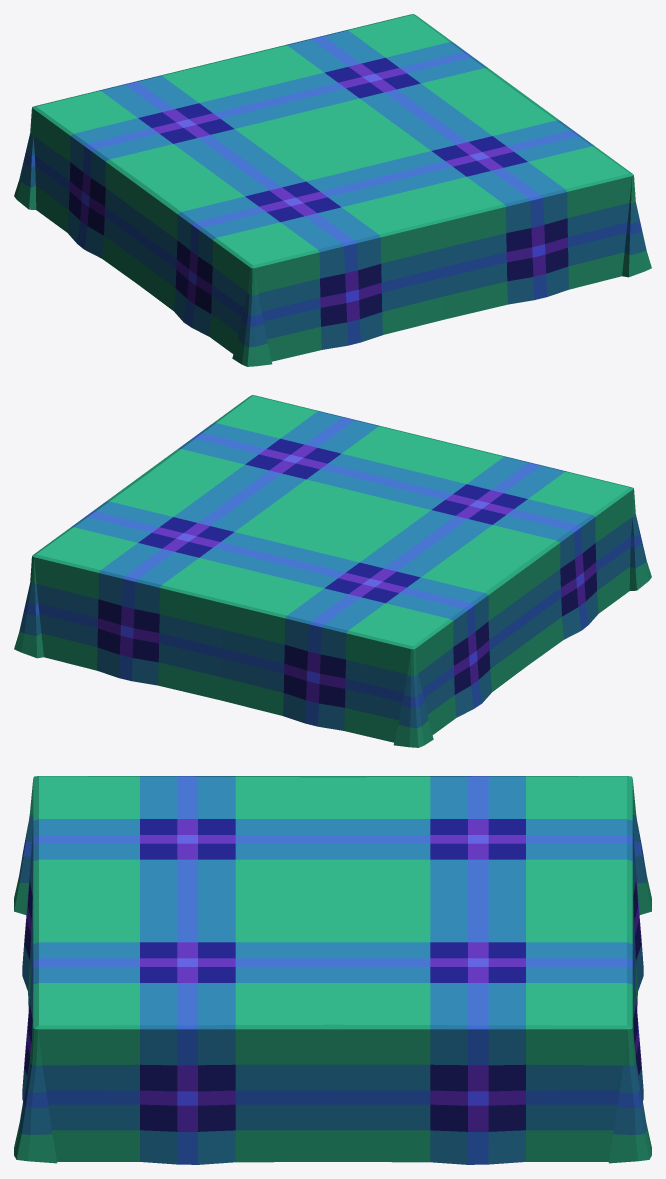
File: BG_Table02.fbx
3 views of the same model, one above another, from view 1: azimuth 30°, elevation 25°; view 2: azimuth 150°, elevation 25°; view 3: azimuth 270°, elevation 25° (orthographic). The views are drawn at different scales.
Parts seen in each view (by area): view 1: BG_Table02; view 2: BG_Table02; view 3: BG_Table02.
Part boxes in pixels (left/top/right/bottom): BG_Table02: left=14, top=14, right=651, bottom=366; BG_Table02: left=14, top=395, right=651, bottom=747; BG_Table02: left=14, top=776, right=651, bottom=1164.
Bounding box in the file's own units: 81.04 × 18.55 × 81.08.
Materials: 1 (1 with a texture image).
